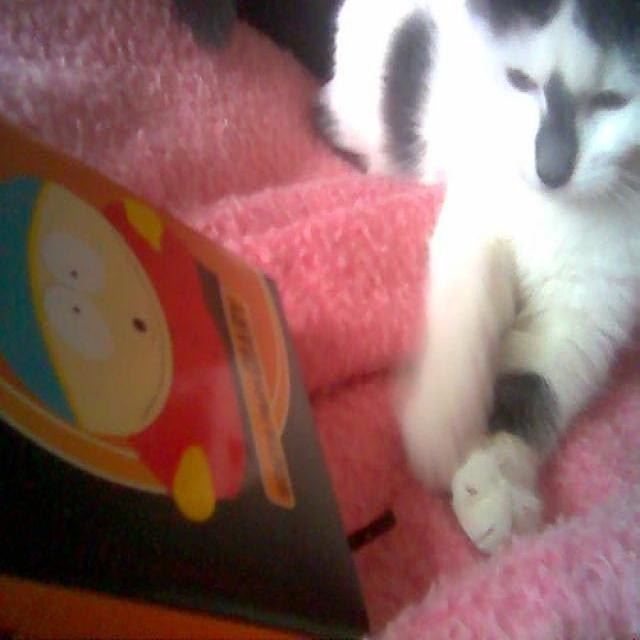cat: (317, 2, 639, 558)
